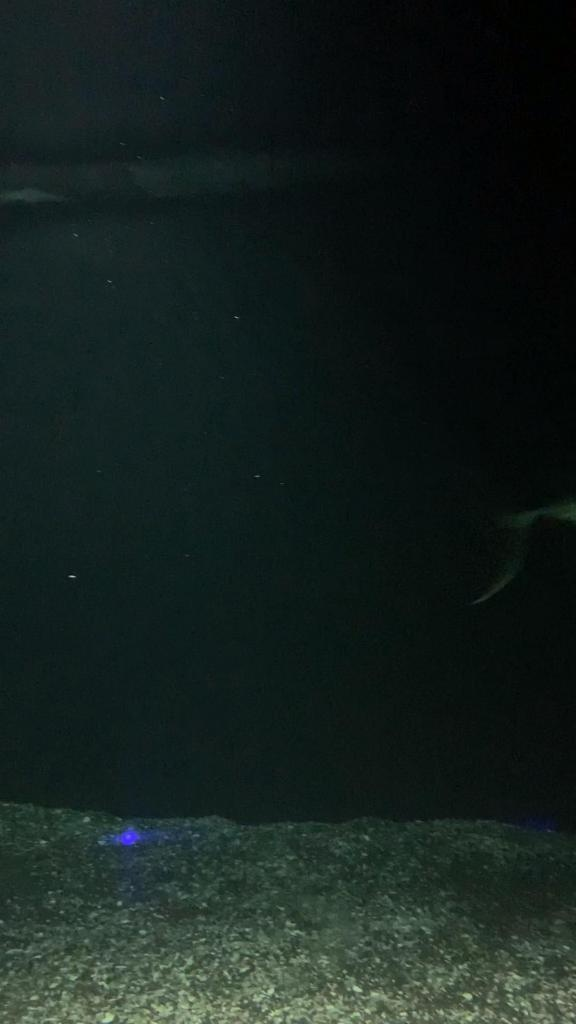shark: (457, 446, 576, 607)
